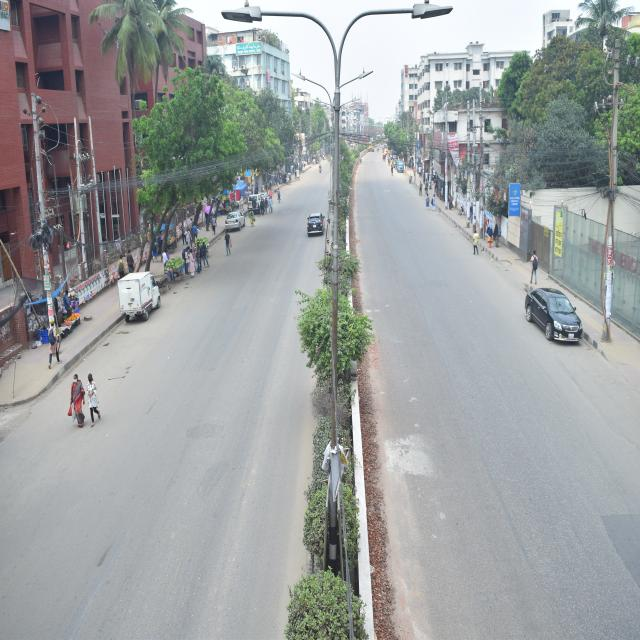car: (523, 284, 587, 346), (306, 210, 330, 241), (222, 211, 248, 235)
pickup-van: (114, 270, 164, 334)
